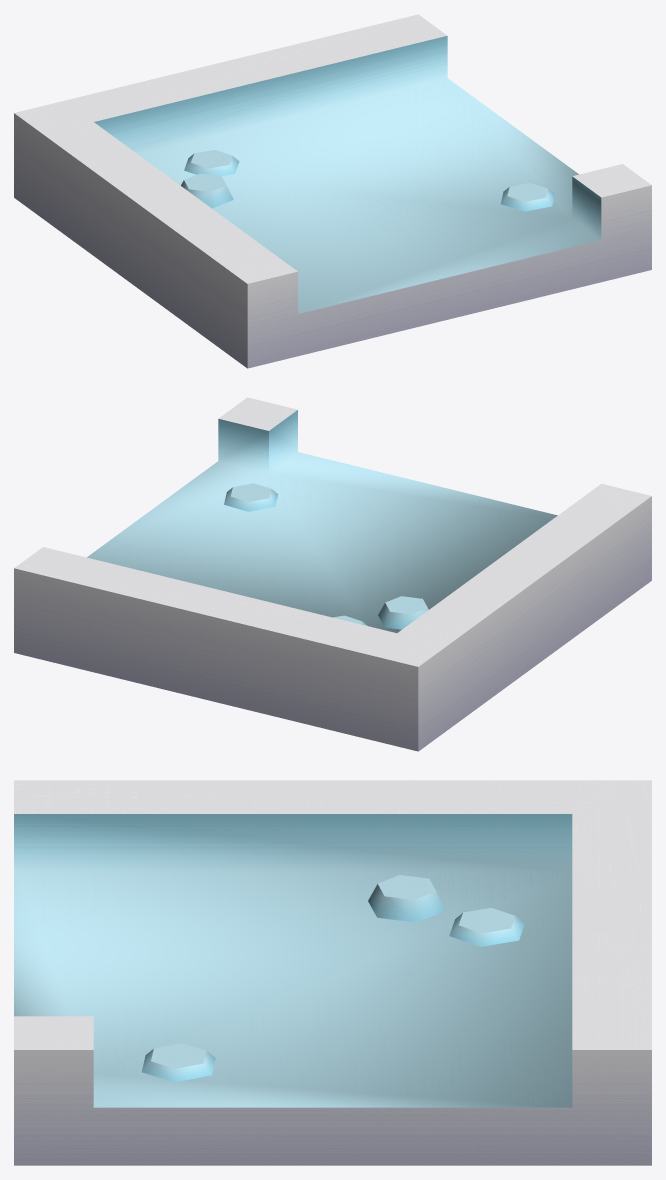
Rendered from snow-tile-corner-square.glb.
3 views of the same model, one above another, from view 1: azimuth 30°, elevation 25°; view 2: azimuth 150°, elevation 25°; view 3: azimuth 270°, elevation 25° (orthographic). The views are drawn at different scales.
Parts seen in each view (by area): view 1: snow-tile-corner-square; view 2: snow-tile-corner-square; view 3: snow-tile-corner-square.
Boxes of the visible parts, box(x1,y1,x2,y2) form: snow-tile-corner-square: box(14, 14, 651, 368); snow-tile-corner-square: box(14, 397, 651, 751); snow-tile-corner-square: box(14, 780, 651, 1165).
Size of the model in its own units: 3 by 0.6 by 3.
1 material, 1 textured.
